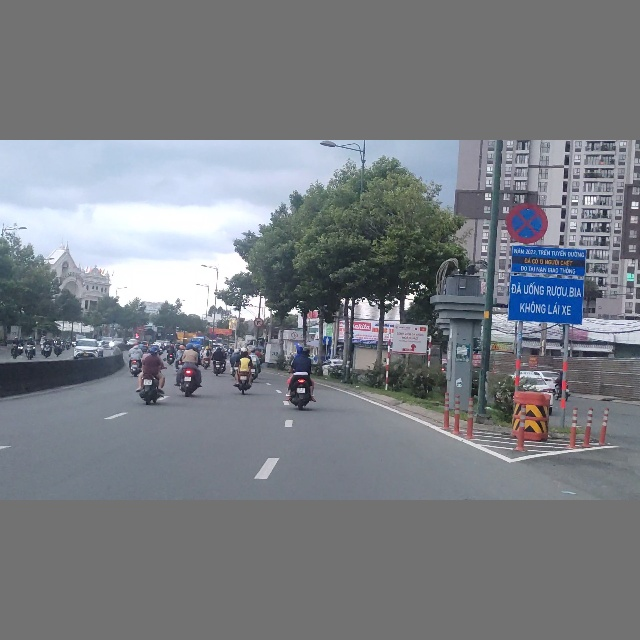I.407a: (323, 336, 332, 345)
P.123b: (254, 317, 263, 327)
P.130: (506, 202, 547, 244)
